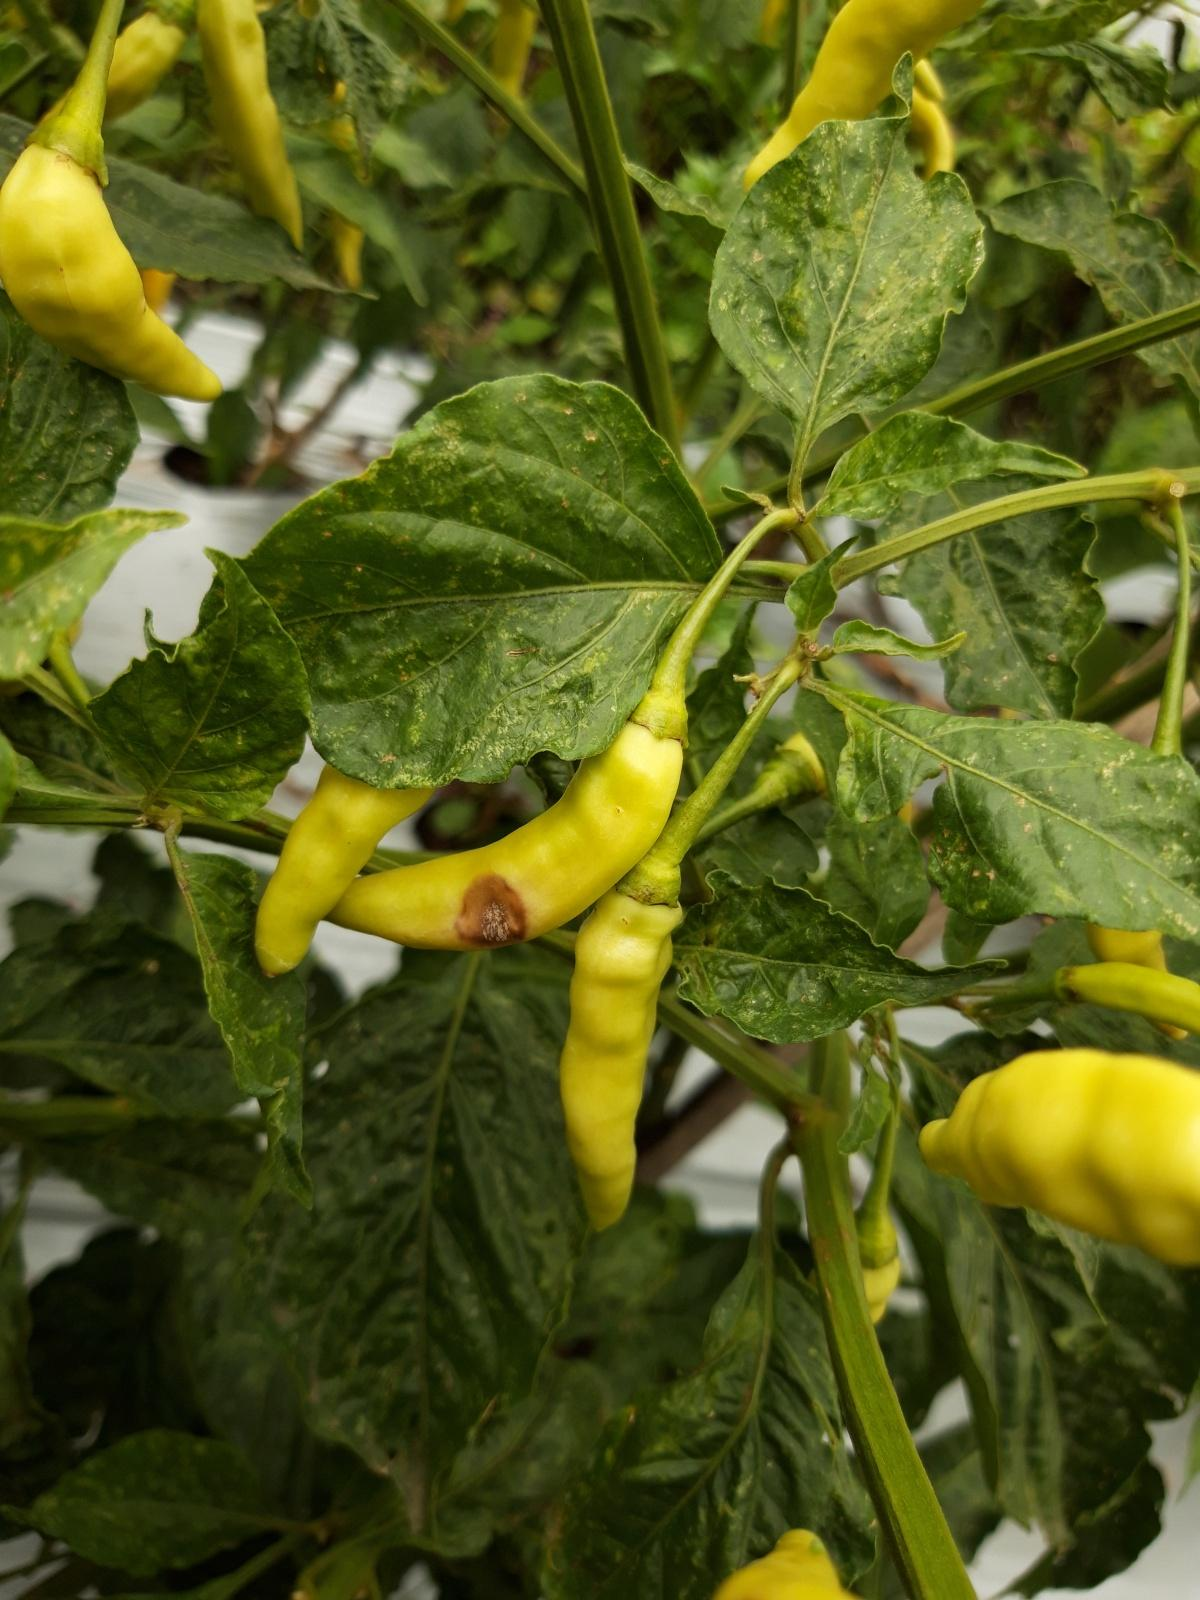cabai_normal: (1, 116, 224, 402), (919, 1049, 1200, 1272), (740, 1, 984, 193), (558, 864, 682, 1233), (251, 741, 429, 975), (199, 1, 303, 253)
lalat_buah: (324, 693, 687, 956)
